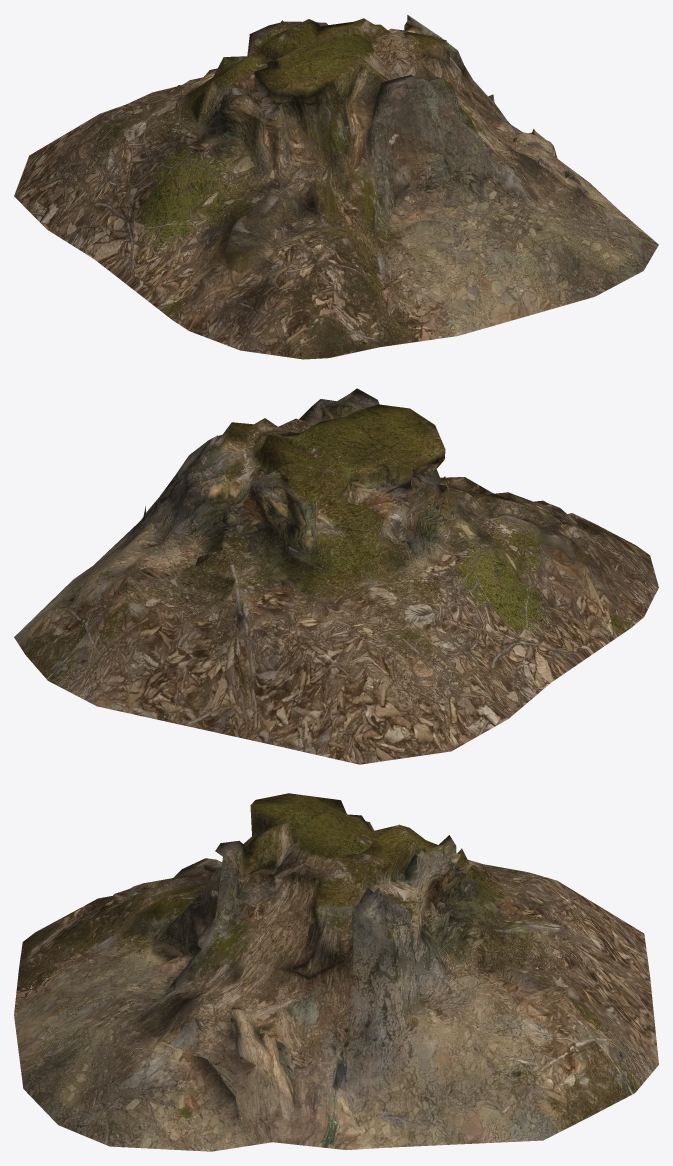
Rendered from ph_tree_stump_01_lod1.glb.
The picture shows the model from 3 angles, top to bottom: view 1: azimuth 30°, elevation 25°; view 2: azimuth 150°, elevation 25°; view 3: azimuth 270°, elevation 25°; orthographic projection. The views are drawn at different scales.
Visible parts, largest first — view 1: tree_stump_01; view 2: tree_stump_01; view 3: tree_stump_01.
Part boxes in pixels (<box>): tree_stump_01: <box>14,15,658,359</box>; tree_stump_01: <box>14,388,658,764</box>; tree_stump_01: <box>14,793,658,1151</box>.
Bounding box in the file's own units: 1.43 × 0.5646 × 1.59.
Materials: 1 (1 with a texture image).
